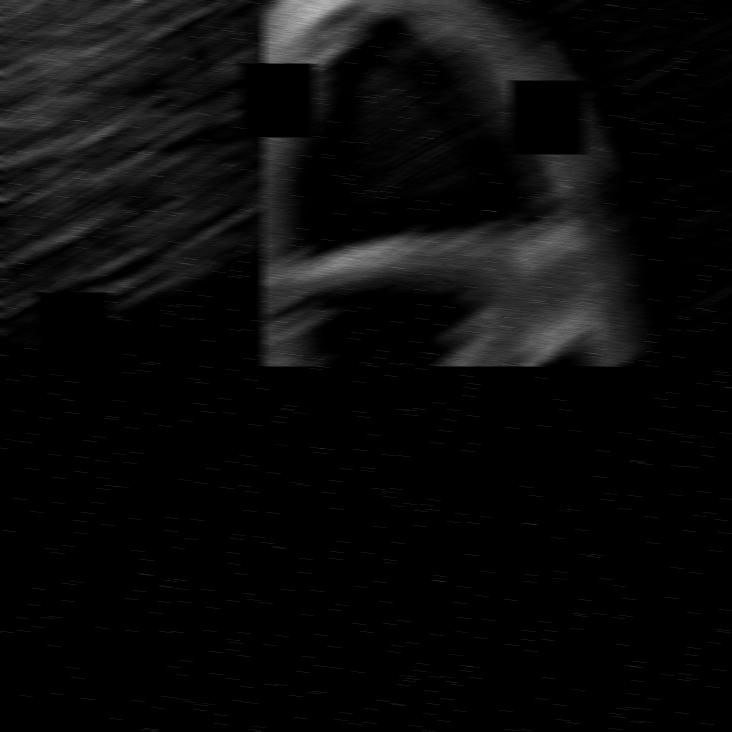Airbag: (261, 0, 732, 366), (0, 0, 264, 366)
